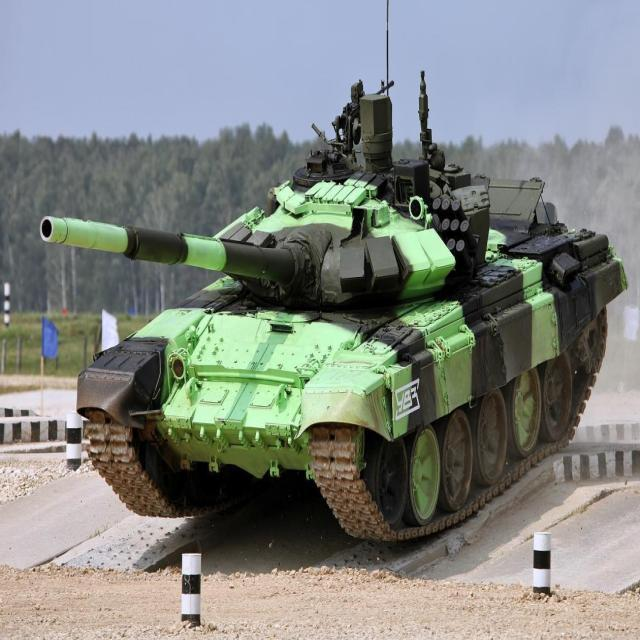MIL_MBT: (27, 110, 604, 547)
